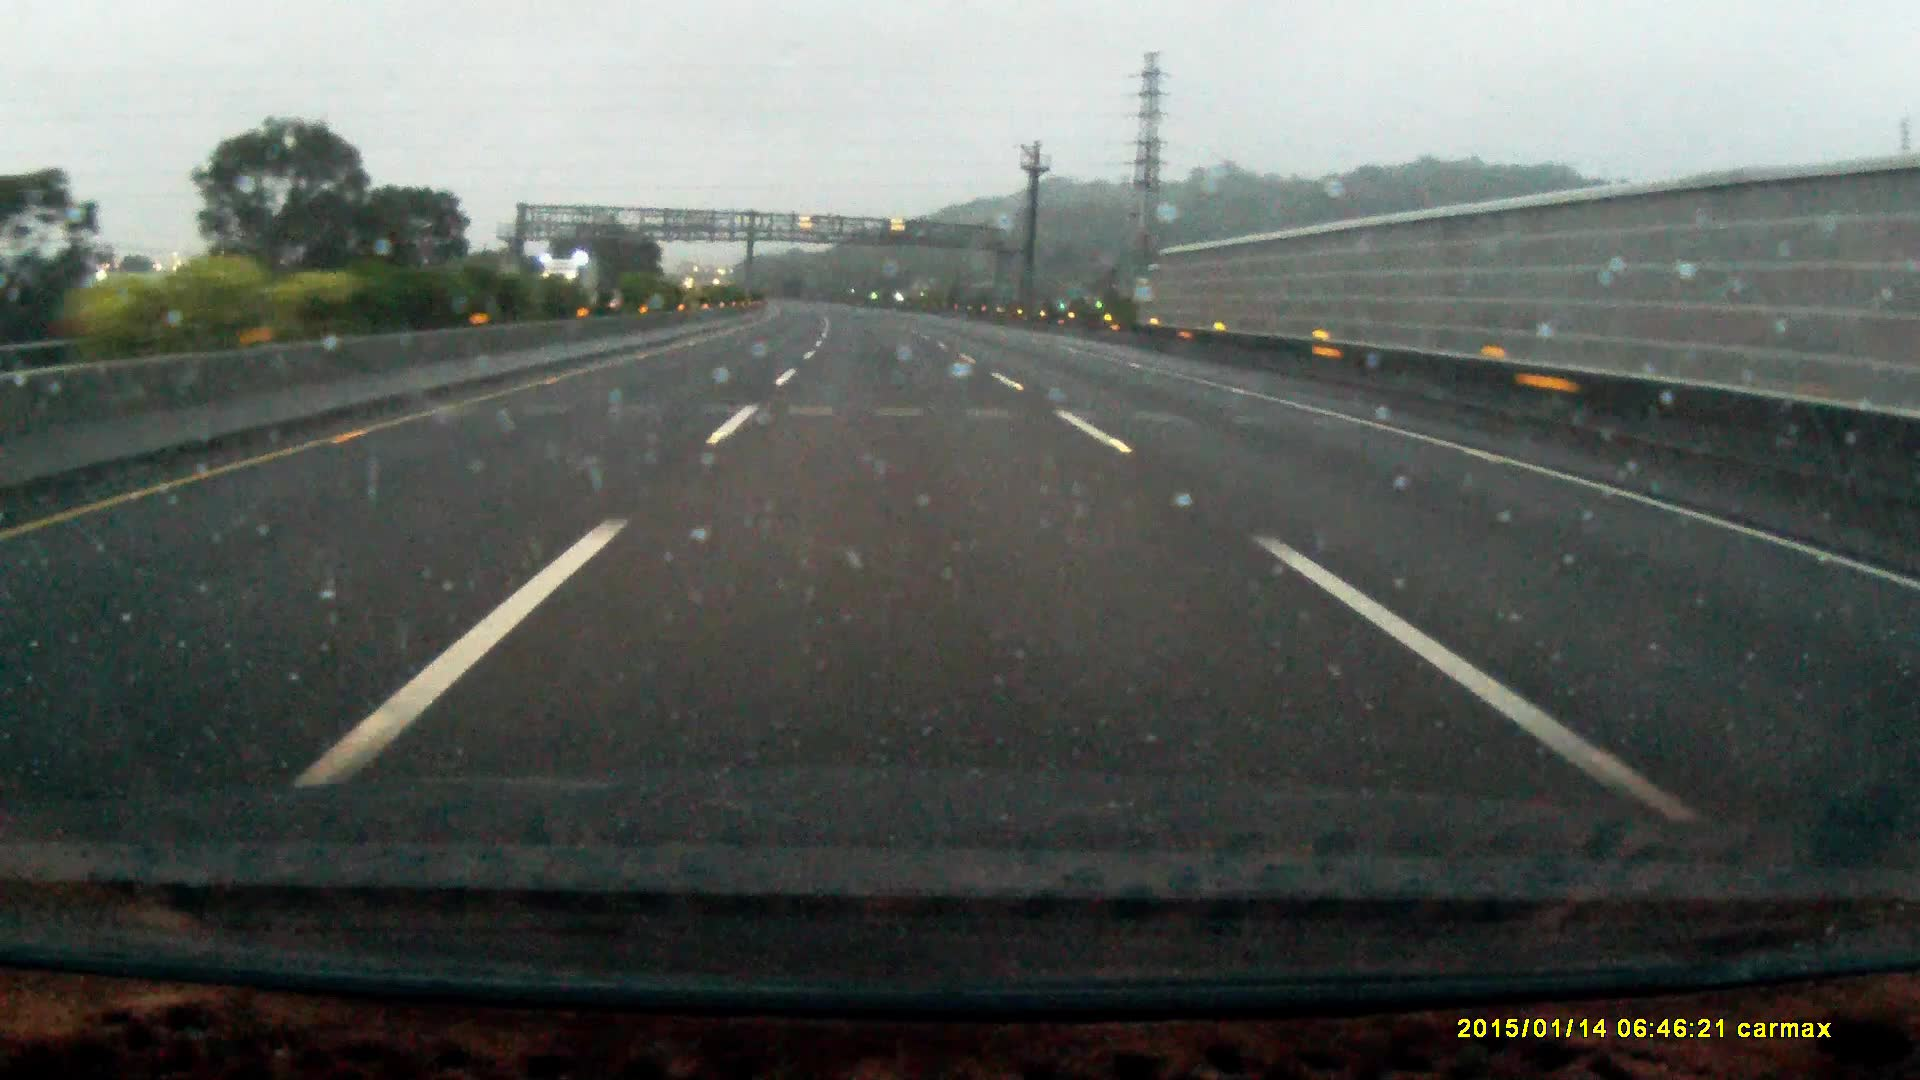vehicle: (537, 260, 597, 316)
